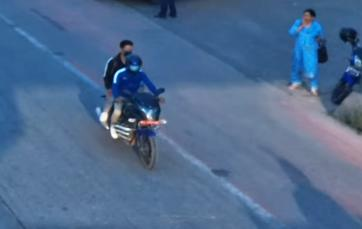bike: (97, 84, 171, 175)
